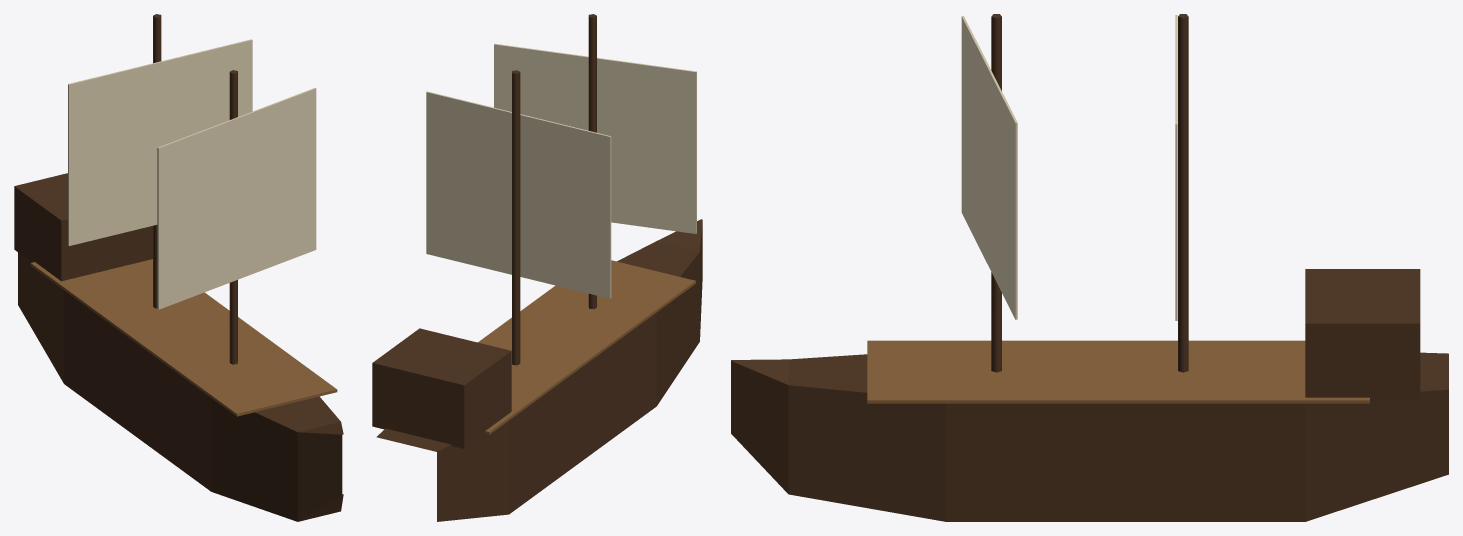
Rendered from veh_naval_merchant_a03_lod2.glb.
The picture shows the model from 3 angles, left to right: view 1: azimuth 30°, elevation 25°; view 2: azimuth 150°, elevation 25°; view 3: azimuth 270°, elevation 25°; orthographic projection. The views are drawn at different scales.
Parts seen in each view (by area): view 1: body, sail_1, sail_0; view 2: body, sail_0, sail_1; view 3: body, sail_1, sail_0.
Boxes of the visible parts, x1,y1,x2,y2 form: body: (14, 14, 343, 521); sail_1: (157, 88, 316, 309); sail_0: (68, 39, 252, 245); body: (372, 14, 702, 521); sail_0: (426, 91, 611, 298); sail_1: (494, 43, 696, 233); body: (731, 14, 1448, 521); sail_1: (961, 16, 1017, 319); sail_0: (1175, 15, 1177, 320).
Bounding box in the file's own units: 5.62 × 11.52 × 15.6.
